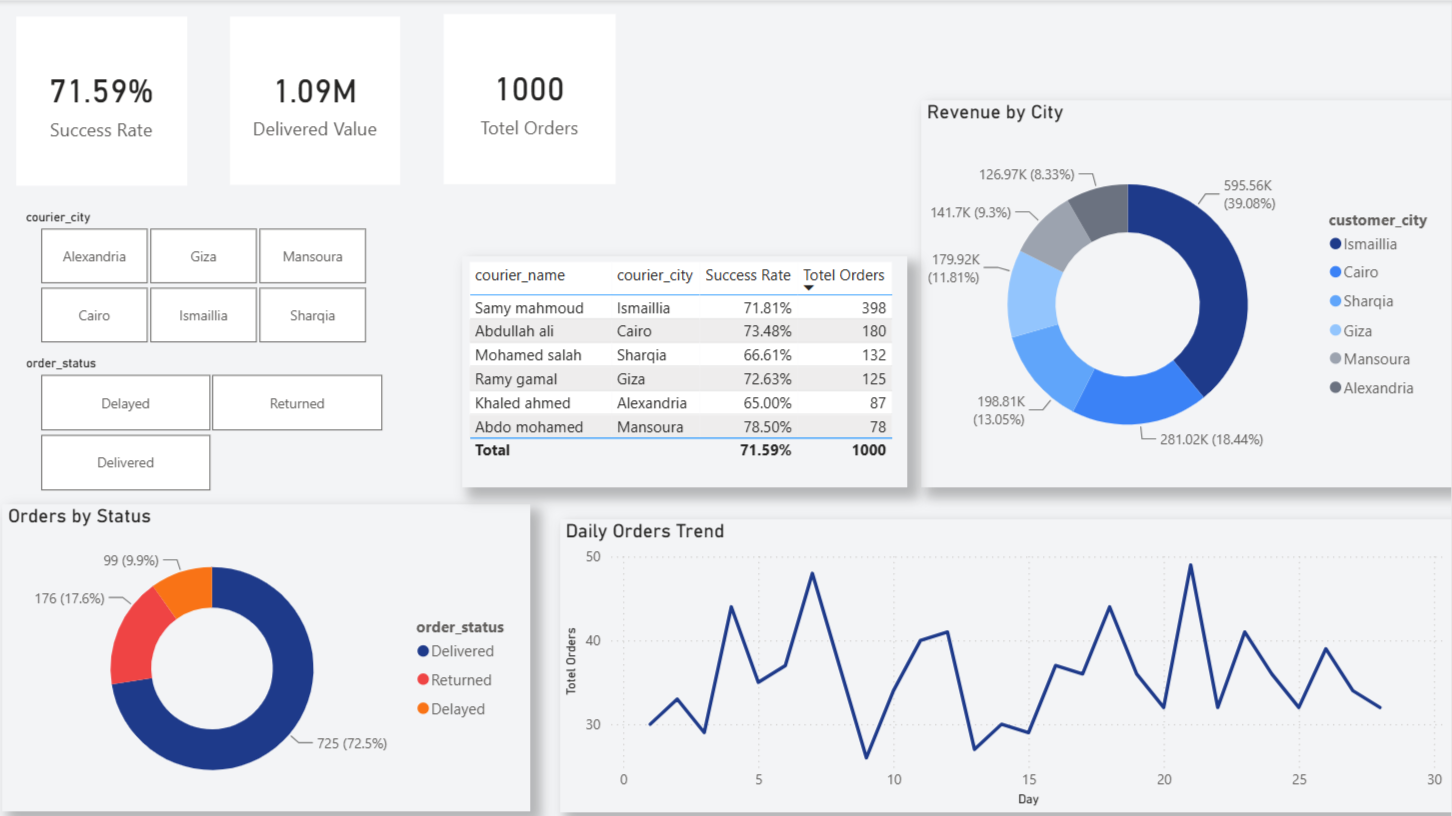

This screenshot's page, from the dashboard's own definition file:
{"tool":"powerbi","page":{"name":"Page 1","canvas":[1280,720],"ordinal":0},"visuals":[{"type":"card","fields":{"Values":["Orders.Delivered Value"]},"box":[206,14.9,149.6,148.2],"z":0,"group":"g1"},{"type":"donutChart","title":"Orders by Status","fields":{"Category":["Orders.order_status"],"Y":["Orders.Totel Orders"]},"box":[5.5,443.1,464,270.5],"z":0},{"type":"card","fields":{"Values":["Orders.Success Rate"]},"box":[17.8,14.9,150,149],"z":1000,"group":"g1"},{"type":"donutChart","title":"Revenue by City","fields":{"Category":["Orders.customer_city"],"Y":["Sum(Orders.order_value)"]},"box":[813.7,87.8,466.6,340.3],"z":1000},{"type":"card","fields":{"Values":["Orders.Totel Orders"]},"box":[393.8,12.3,150.9,149.6],"z":2000,"group":"g1"},{"type":"tableEx","fields":{"Values":["Couriers.courier_name","Couriers.courier_city","Orders.Success Rate","Orders.Totel Orders"]},"box":[410.3,225,391.1,203.1],"z":2000},{"type":"lineChart","title":"Daily Orders Trend","fields":{"Y":["Orders.Totel Orders"],"Category":["Orders.order_date.Variation.Date Hierarchy.Day"]},"box":[495.9,456.3,784,257.3],"z":3000},{"type":"slicer","fields":{"Values":["Orders.order_status"]},"box":[13.2,308.2,350,130],"z":4000},{"type":"slicer","fields":{"Values":["Couriers.courier_city"]},"box":[13.7,179.8,336.2,129],"z":5000},{"type":"group","id":"g1","title":"Group 1","box":[17.8,12.3,526.9,150.9],"z":6000}]}

Visuals, with their boxes in screenshot pixels (x1, y1, x2, y2), scaled from the page's 1280x720 canvas onto the 1452x816 screenshot:
card - Orders.Delivered Value: left=234, top=17, right=403, bottom=185
"Orders by Status" donutChart: left=6, top=502, right=533, bottom=809
card - Orders.Success Rate: left=20, top=17, right=190, bottom=186
"Revenue by City" donutChart: left=923, top=100, right=1451, bottom=485
card - Orders.Totel Orders: left=447, top=14, right=618, bottom=183
tableEx - Couriers.courier_name x Couriers.courier_city: left=465, top=255, right=909, bottom=485
"Daily Orders Trend" lineChart: left=563, top=517, right=1451, bottom=809
slicer - Orders.order_status: left=15, top=349, right=412, bottom=497
slicer - Couriers.courier_city: left=16, top=204, right=397, bottom=350
"Group 1" group: left=20, top=14, right=618, bottom=185
